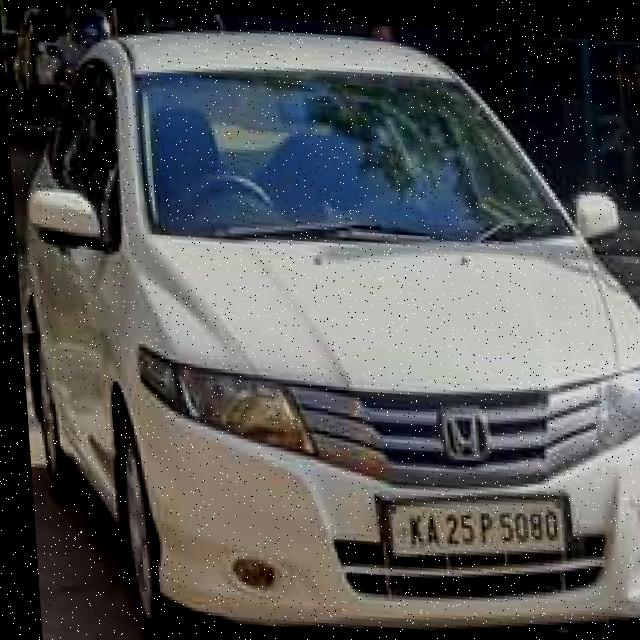plate: (371, 476, 569, 564)
